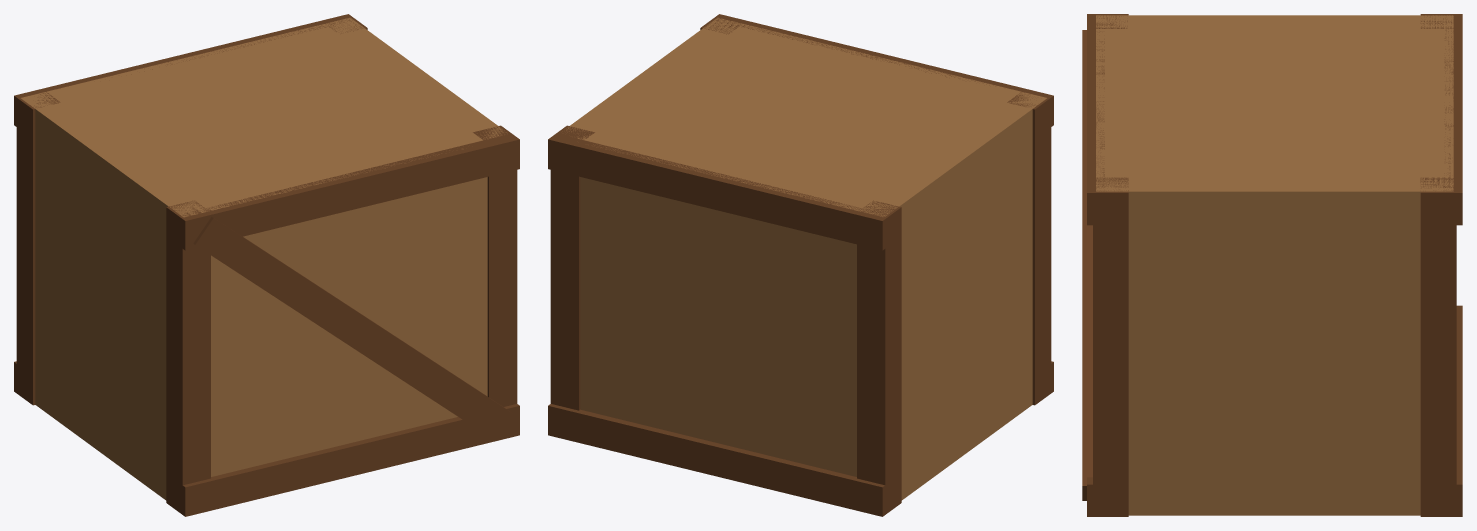
The model's file is SM_Crate.obj.
3 renders of one model, left to right at view 1: azimuth 30°, elevation 25°; view 2: azimuth 150°, elevation 25°; view 3: azimuth 270°, elevation 25°, orthographic. The views are drawn at different scales.
Parts seen in each view (by area): view 1: SM_Crate; view 2: SM_Crate; view 3: SM_Crate.
Boxes of the visible parts, x1=… form: SM_Crate: x1=14, y1=14, x2=519, y2=516; SM_Crate: x1=548, y1=14, x2=1053, y2=516; SM_Crate: x1=1082, y1=14, x2=1462, y2=516.
Size of the model in its own units: 0.71 by 0.6 by 0.6375.
